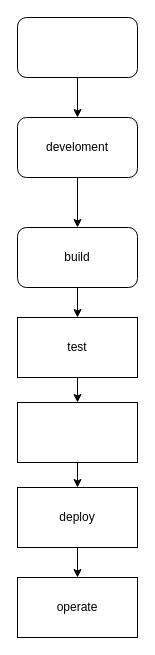
Some shapes in this 155 by 655 pixel diagram are drawn without their labels. The box of each missing label's shape, as (x1, y1, x2, y2) in pixels:
plan: (16, 16, 138, 78)
release: (16, 402, 138, 462)
